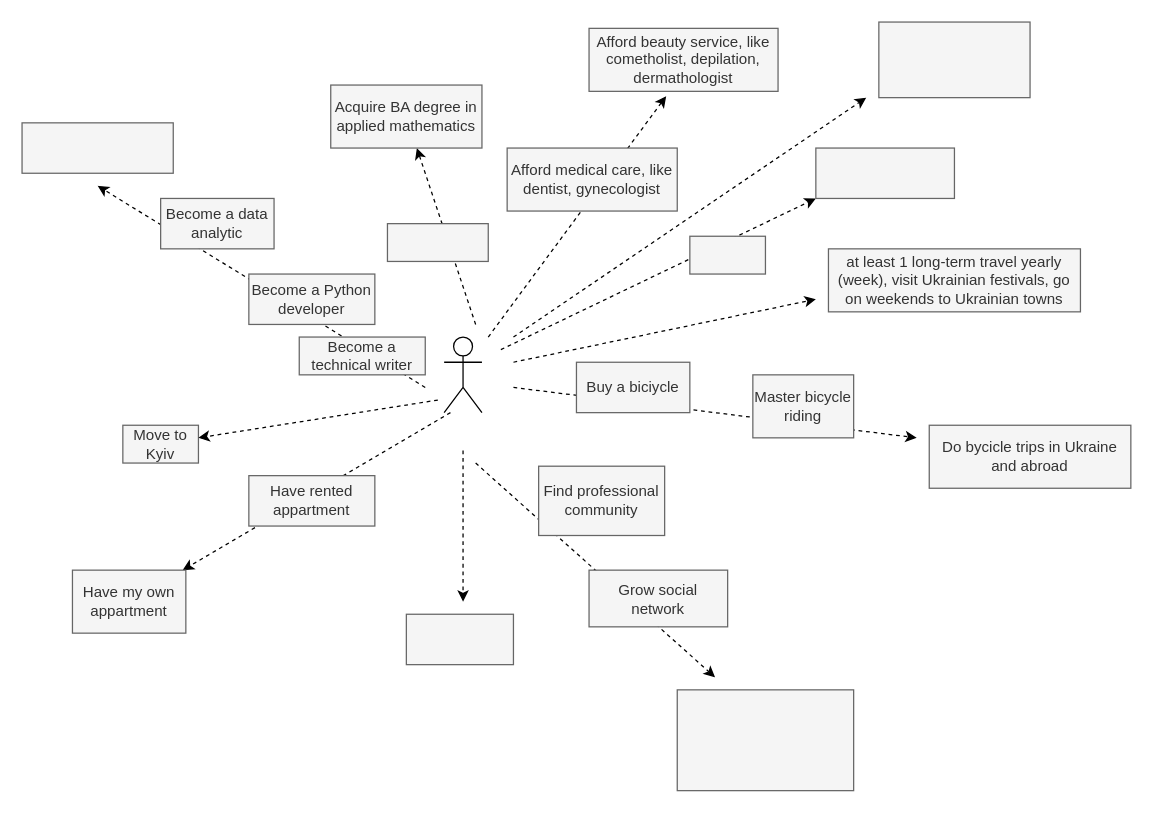
Some shapes in this 1153 by 813 pixel diagram are drawn without their labels. The shapes that lost their labels are listed below. From the top down, each one's centre as x and y in pixels, then its label:
the point at 954,59: Have stylish look, like clothes, accessories, heaircut
the point at 97,147: Become a Machine Learning engineer
the point at 884,172: find a sexual partner
the point at 437,241: Develop BA's diploma thesis
the point at 727,254: master twerking
the point at 462,374: Me
the point at 459,639: Do running daily
the point at 765,740: Get involved in hackatons, competitions, projects, startups, conferences
